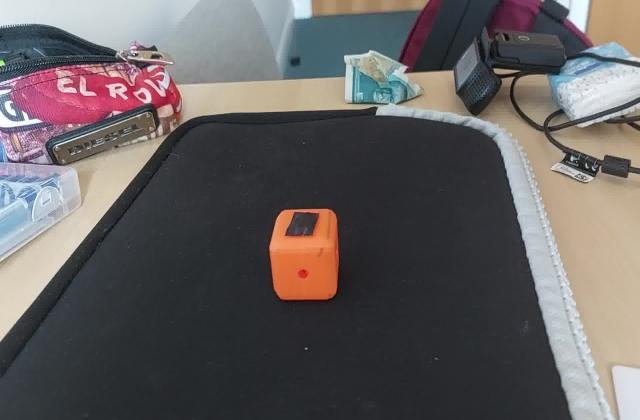black: (286, 210, 319, 242)
cube: (267, 205, 342, 306)
